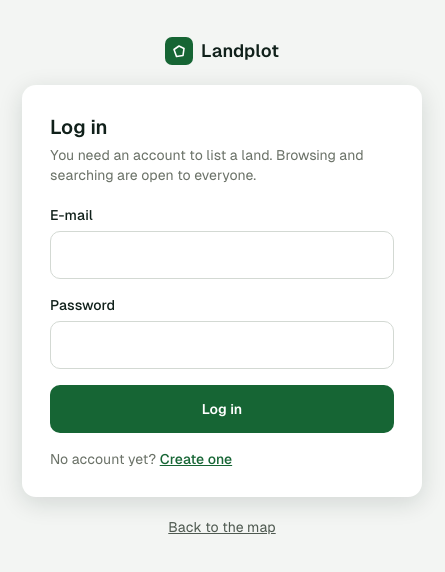
Test: LoginPage › shows a generic message on invalid credentials (401)
The image size is (445, 572).
Type "ana@example.com" into the field labelled "E-mail" at (222, 255), box [50,231,394,279]
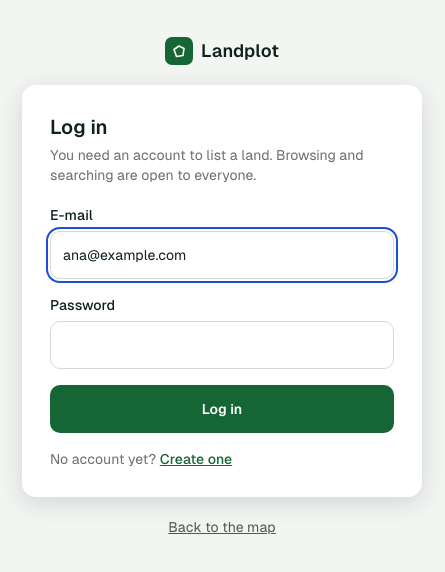
Type "wrong-pass" into the password field labelled "Password" at (222, 345), box [50,321,394,369]
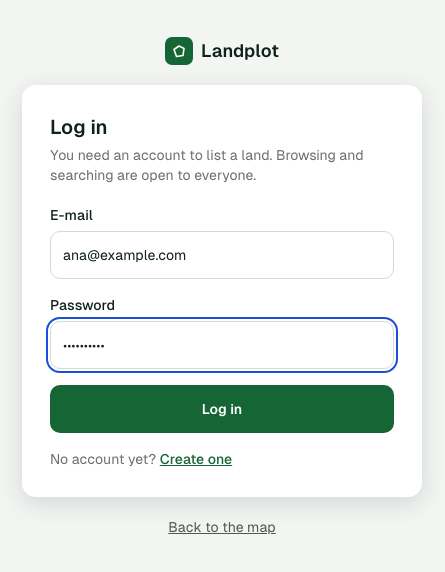
Click the button "Log in" at (222, 409), box [50,385,394,433]
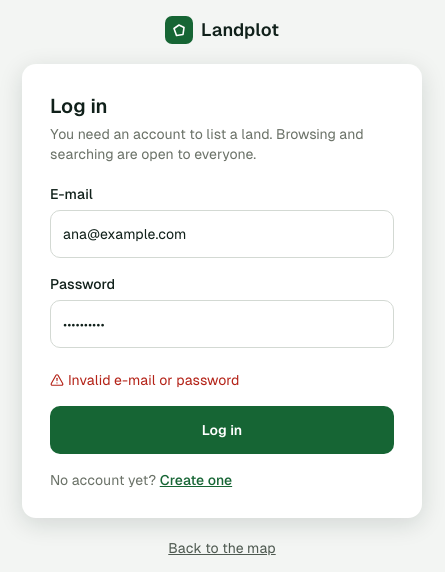
Now the text "Invalid e-mail or password" is shown, box [50,372,240,388]
